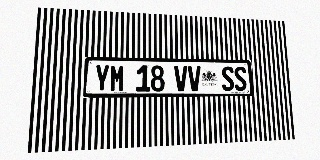1: (136, 65, 150, 92)
8: (151, 65, 165, 91)
M: (110, 65, 125, 92)
S: (221, 66, 234, 91), (234, 66, 247, 91)
V: (174, 66, 188, 91), (188, 66, 201, 91)
Y: (94, 64, 110, 92)
